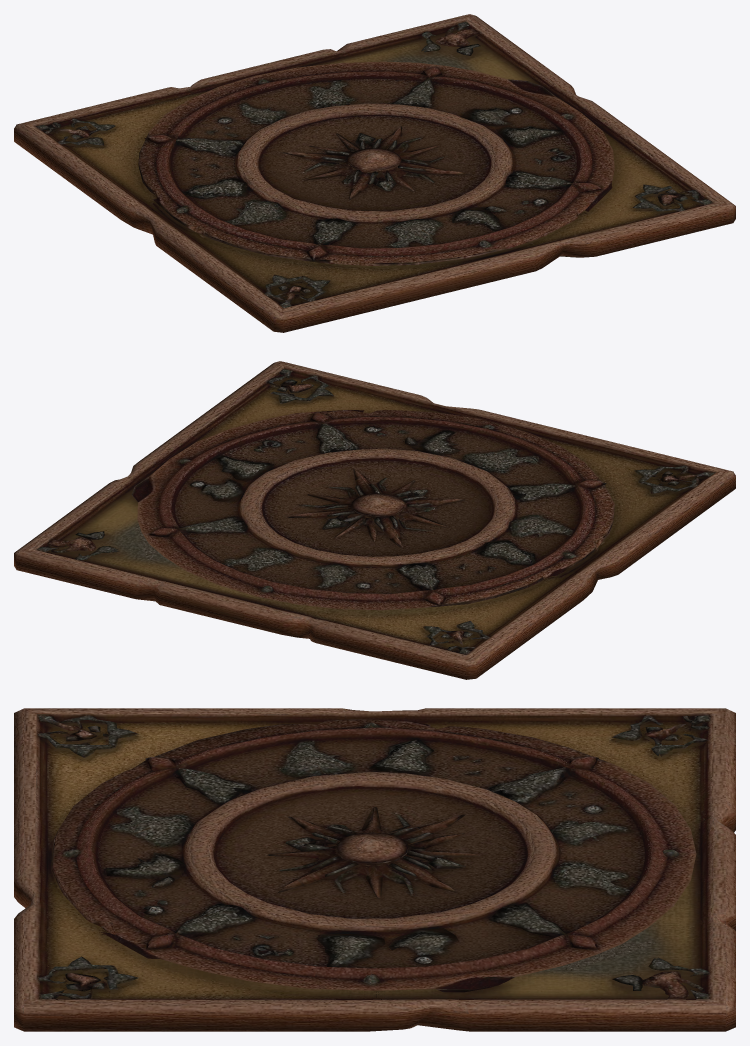
File: tripo_convert_017407e2-c8d4-4da5-a157-808f5ace22db.fbx
3 views of the same model, one above another, from view 1: azimuth 30°, elevation 25°; view 2: azimuth 150°, elevation 25°; view 3: azimuth 270°, elevation 25° (orthographic). The views are drawn at different scales.
Visible parts, largest first — view 1: tripo_node_017407e2; view 2: tripo_node_017407e2; view 3: tripo_node_017407e2.
Part boxes in pixels (x1,y1,x2,y2): tripo_node_017407e2: [14, 14, 735, 332]; tripo_node_017407e2: [14, 361, 735, 679]; tripo_node_017407e2: [14, 708, 735, 1031].
Bounding box in the file's own units: 0.998 × 0.0683 × 0.998.
1 material, 1 textured.
